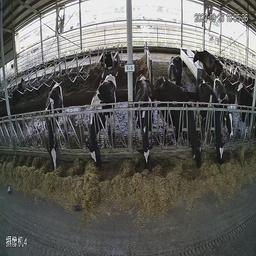cow: (155, 75, 202, 171), (83, 73, 118, 162), (195, 78, 225, 166), (134, 74, 154, 173), (45, 82, 64, 169), (214, 77, 234, 141), (193, 49, 223, 91), (167, 55, 184, 92), (100, 52, 119, 68)
